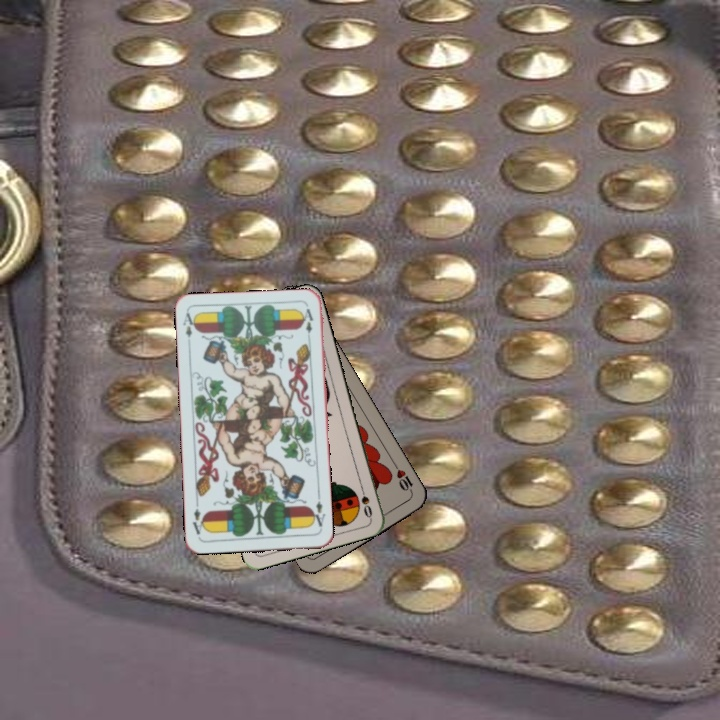EA: (308, 492, 328, 532), (179, 309, 199, 340)
H10: (390, 459, 416, 496)
SO: (356, 480, 375, 521)
